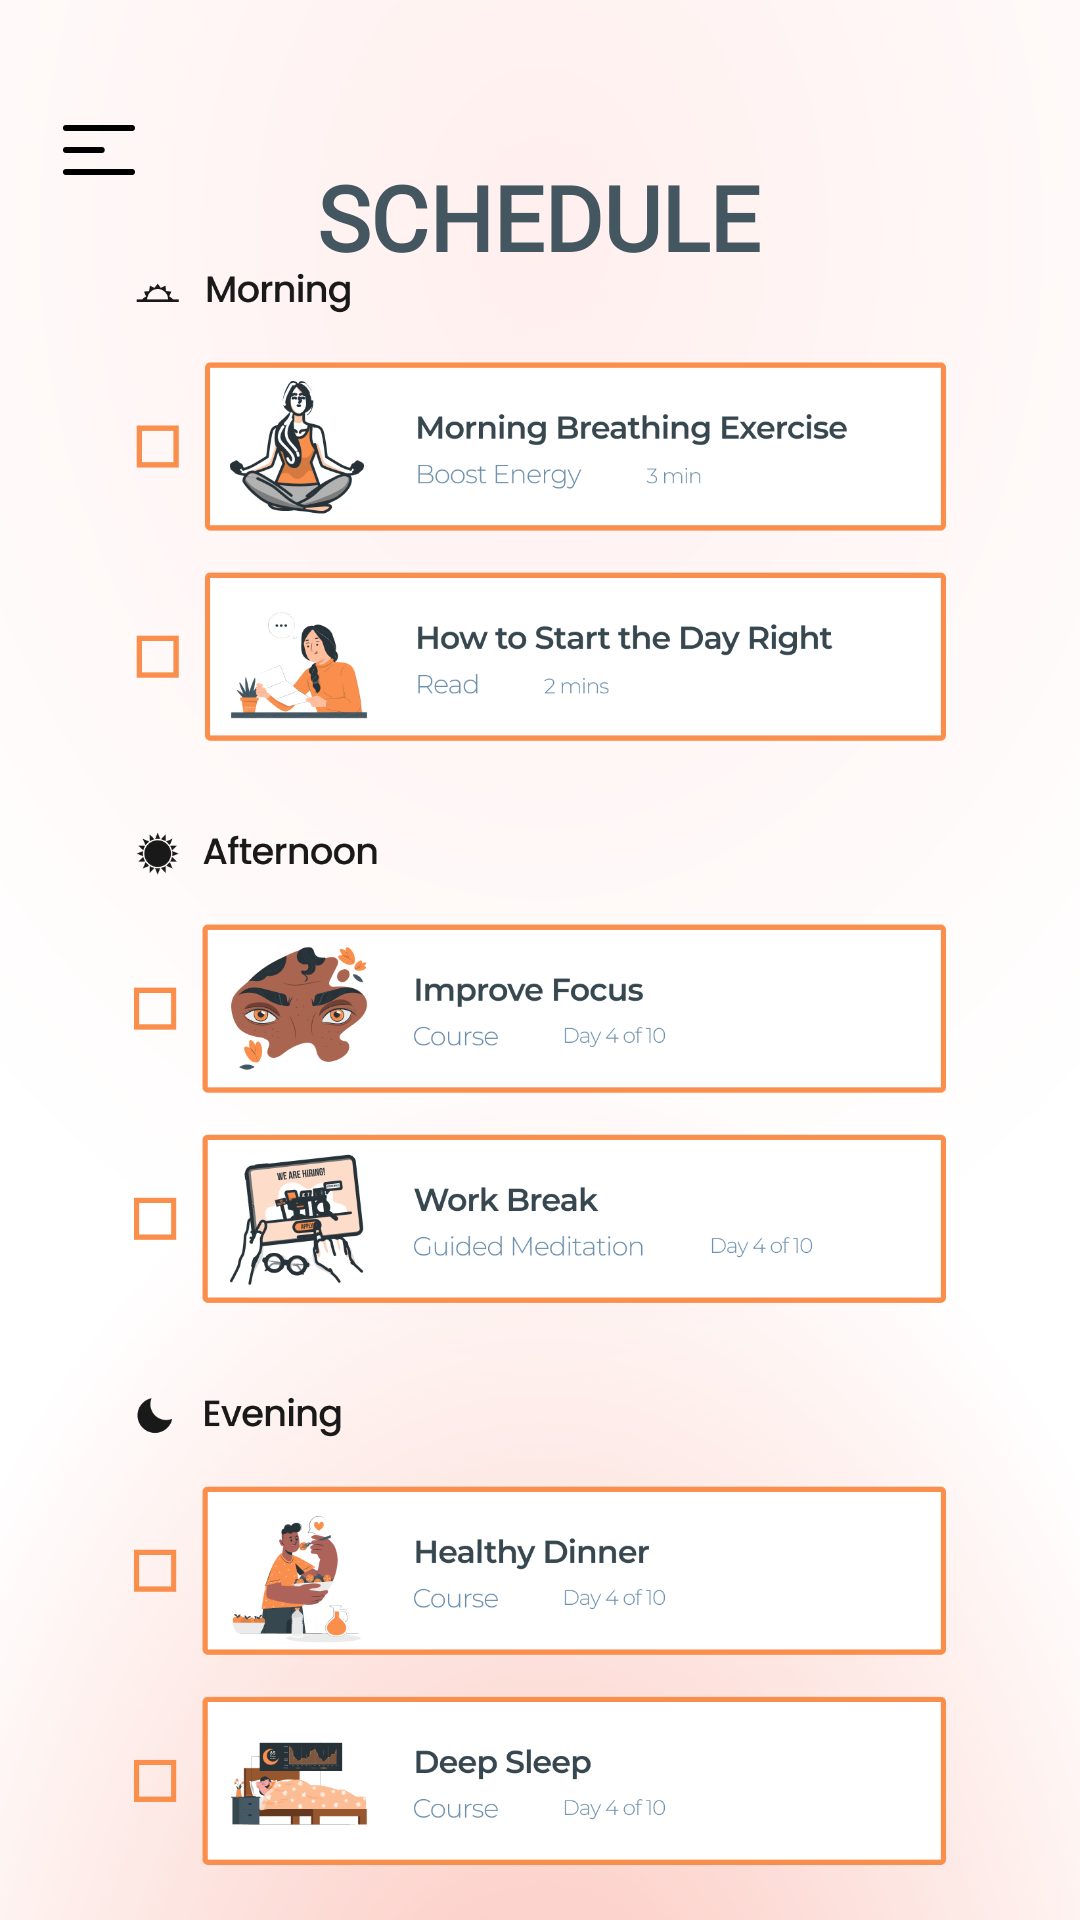

Screen size 1080×1920. Icon name, then its center in pixels as [x,y]:
hamburger: [99,150]
